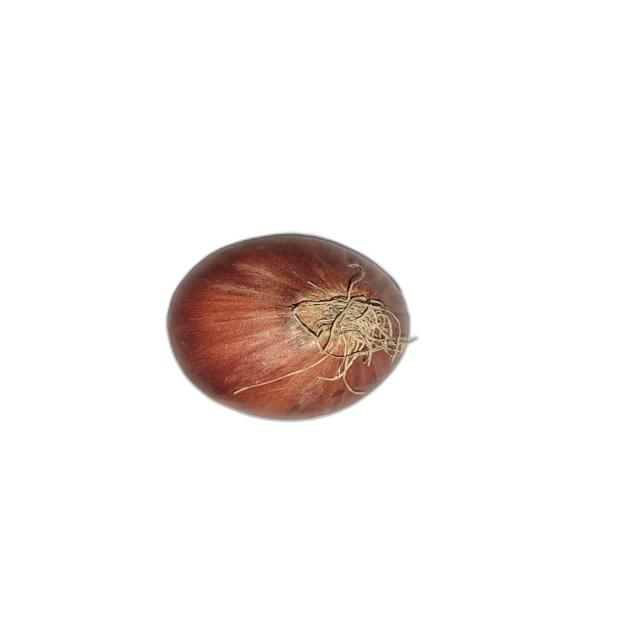onion: (165, 232, 418, 422)
